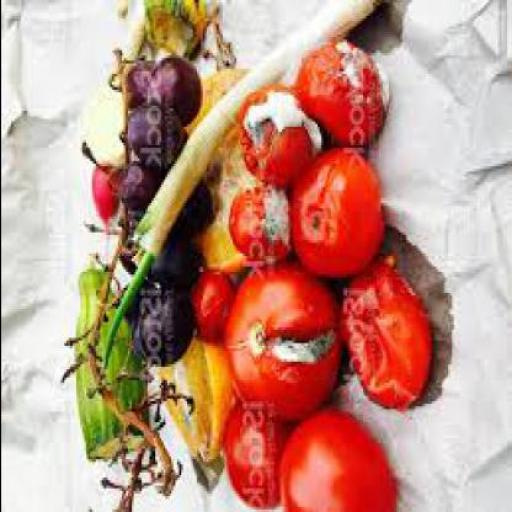biodegradable: (99, 0, 377, 362), (175, 65, 269, 272), (220, 264, 340, 417), (71, 262, 142, 456), (338, 262, 429, 409), (276, 406, 394, 510), (288, 145, 380, 277), (288, 40, 384, 146), (154, 344, 235, 454), (236, 81, 312, 180), (214, 401, 281, 510), (127, 0, 223, 66), (222, 178, 286, 258), (142, 53, 194, 124), (139, 290, 190, 360), (188, 264, 233, 340), (143, 232, 199, 290), (127, 105, 176, 169), (168, 176, 210, 230), (88, 152, 114, 222), (113, 162, 150, 210), (112, 214, 134, 275), (124, 296, 146, 354), (122, 53, 144, 97), (117, 0, 127, 16)
paper: (2, 0, 72, 511), (376, 1, 510, 232), (445, 270, 510, 510), (406, 205, 510, 277), (398, 401, 454, 510), (215, 0, 280, 34), (369, 406, 401, 438), (334, 377, 360, 407)
